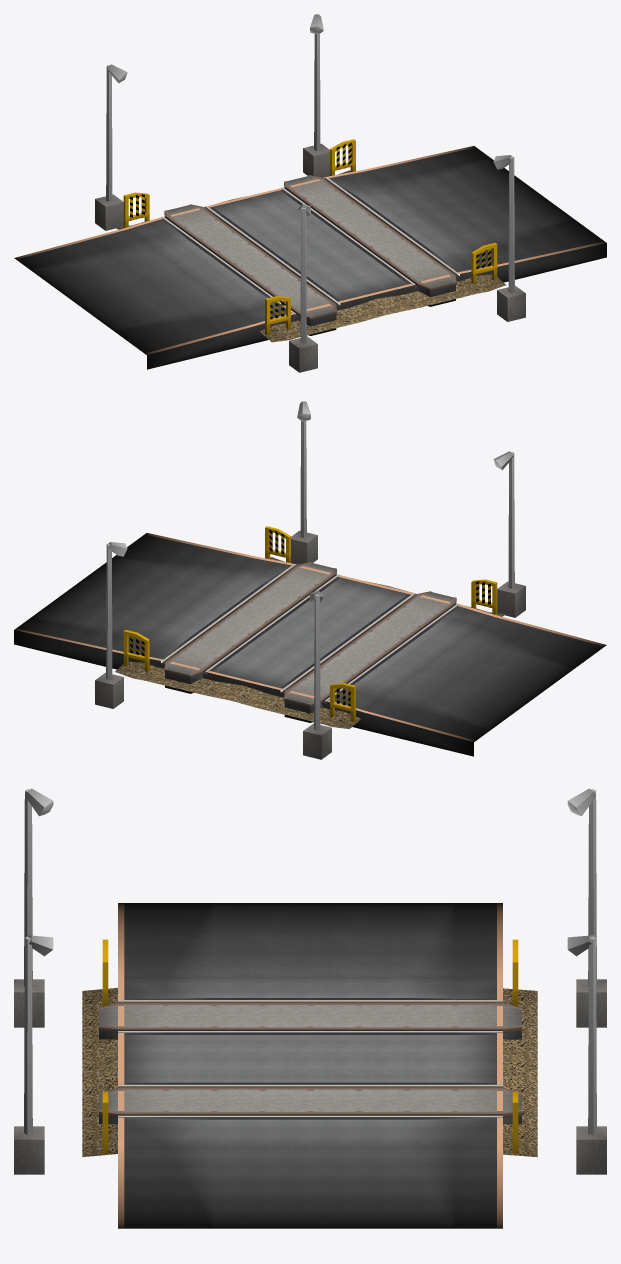
File: HK_HUMIKIRI25.glb
The picture shows the model from 3 angles, top to bottom: view 1: azimuth 30°, elevation 25°; view 2: azimuth 150°, elevation 25°; view 3: azimuth 270°, elevation 25°; orthographic projection. The views are drawn at different scales.
Visible parts, largest first — view 1: Jari_All, bone8, bone0; view 2: Jari_All, bone0, bone8; view 3: Jari_All, bone8, bone0.
Part boxes in pixels (<box>): Jari_All: <box>14,146,606,369</box>; bone8: <box>265,155,525,372</box>; bone0: <box>95,14,355,230</box>; Jari_All: <box>14,533,606,756</box>; bone0: <box>95,542,355,759</box>; bone8: <box>265,401,525,617</box>; Jari_All: <box>82,903,537,1228</box>; bone8: <box>14,788,108,1174</box>; bone0: <box>512,788,606,1174</box>.
Bounding box in the file's own units: 50 × 16.65 × 38.48.
14 materials, 11 textured.
